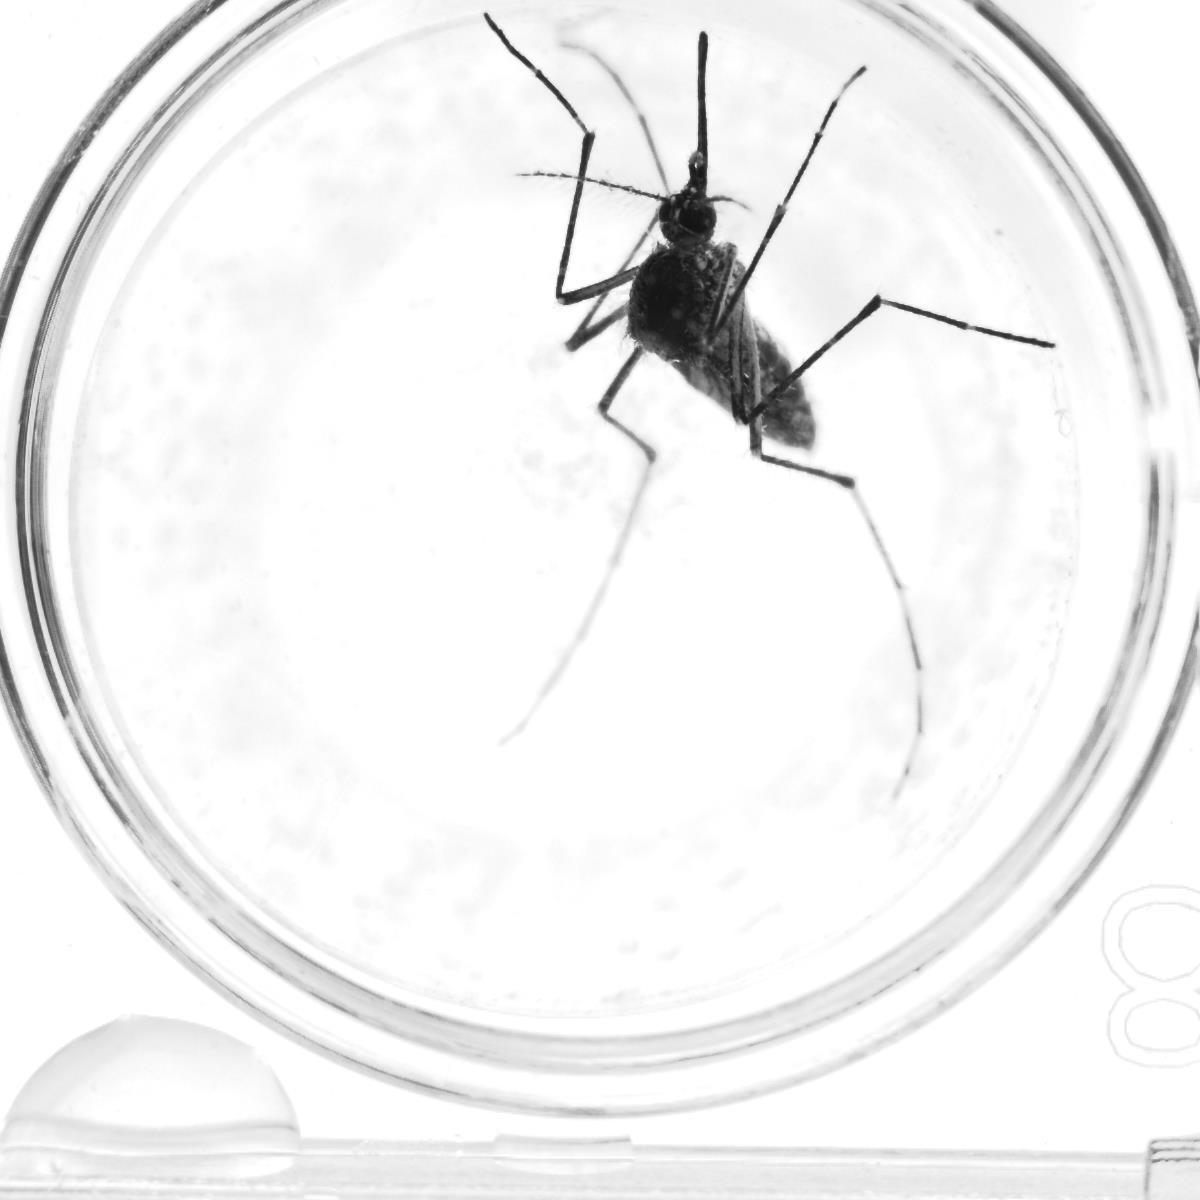f-a: (624, 27, 757, 246)
f-b: (470, 8, 1018, 749)
f-c: (784, 416, 832, 453)
